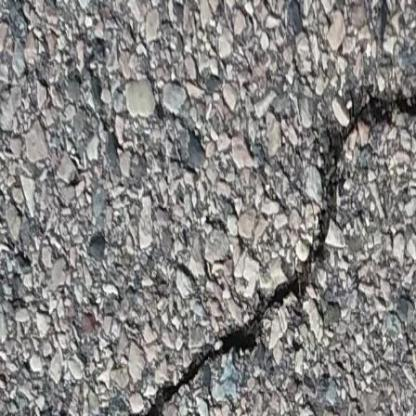Cracks: (133, 73, 416, 415)
